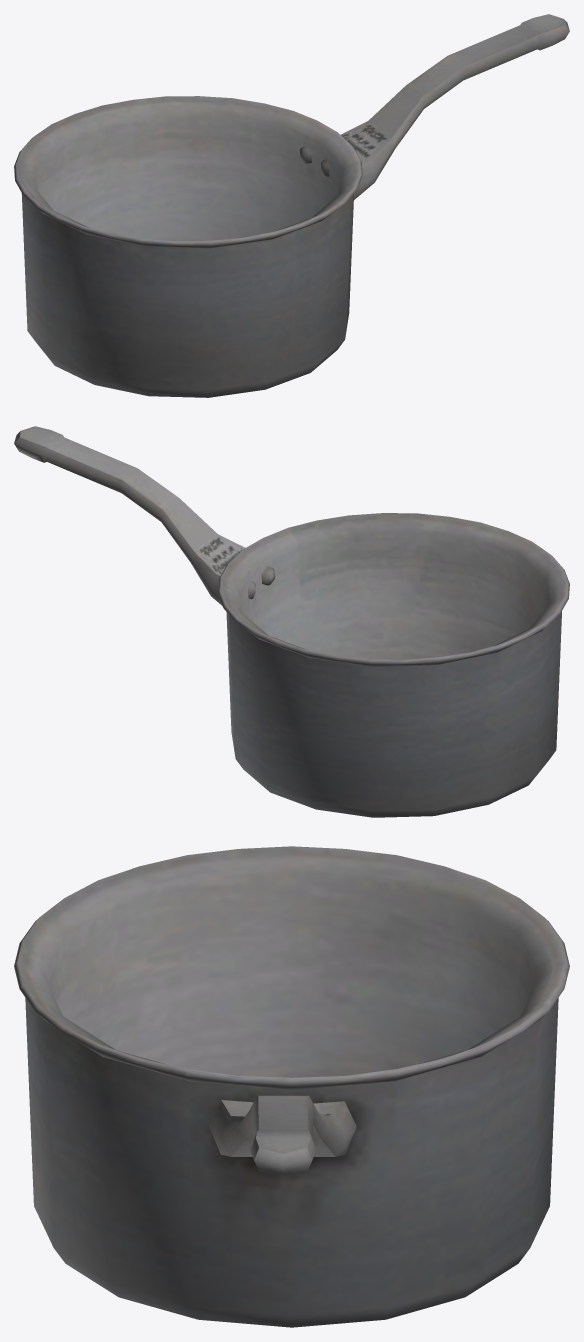
The model's file is cooking_pot.dae.
3 views of the same model, one above another, from view 1: azimuth 30°, elevation 25°; view 2: azimuth 150°, elevation 25°; view 3: azimuth 270°, elevation 25° (orthographic). The views are drawn at different scales.
Visible parts, largest first — view 1: cooking_pot; view 2: cooking_pot; view 3: cooking_pot.
Part boxes in pixels (left/top/right/bottom): cooking_pot: left=14, top=14, right=569, bottom=397; cooking_pot: left=14, top=426, right=569, bottom=817; cooking_pot: left=14, top=846, right=569, bottom=1327.
Bounding box in the file's own units: 0.3933 × 0.1612 × 0.2256.
